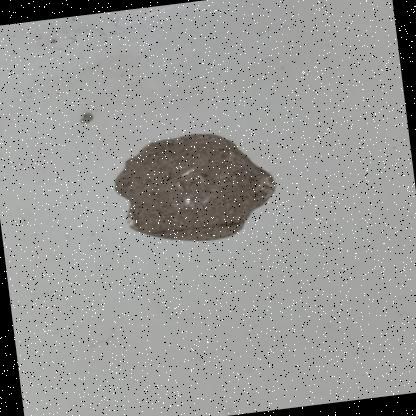Crack: (91, 110, 304, 268), (68, 98, 111, 132)
